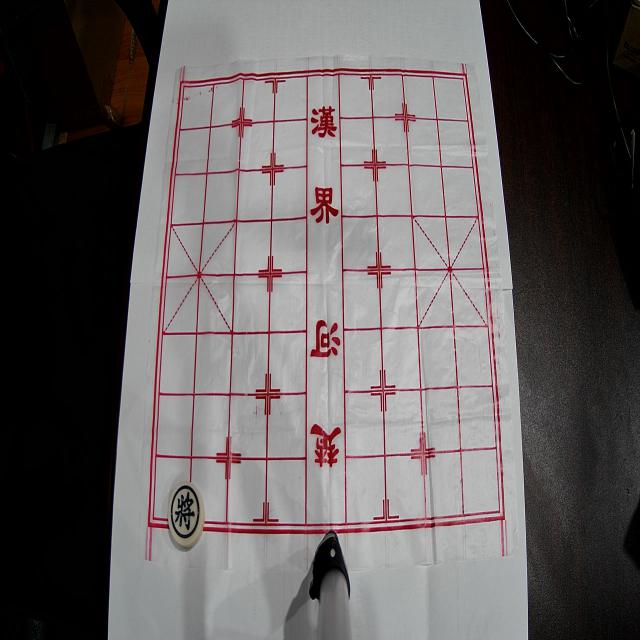black-general: (168, 481, 205, 547)
